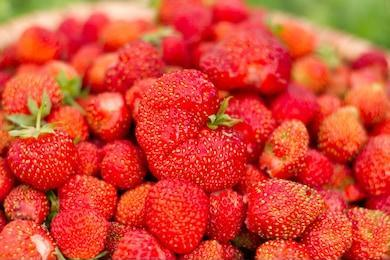Fresa: (131, 64, 249, 194), (241, 177, 327, 243), (5, 122, 80, 196)
